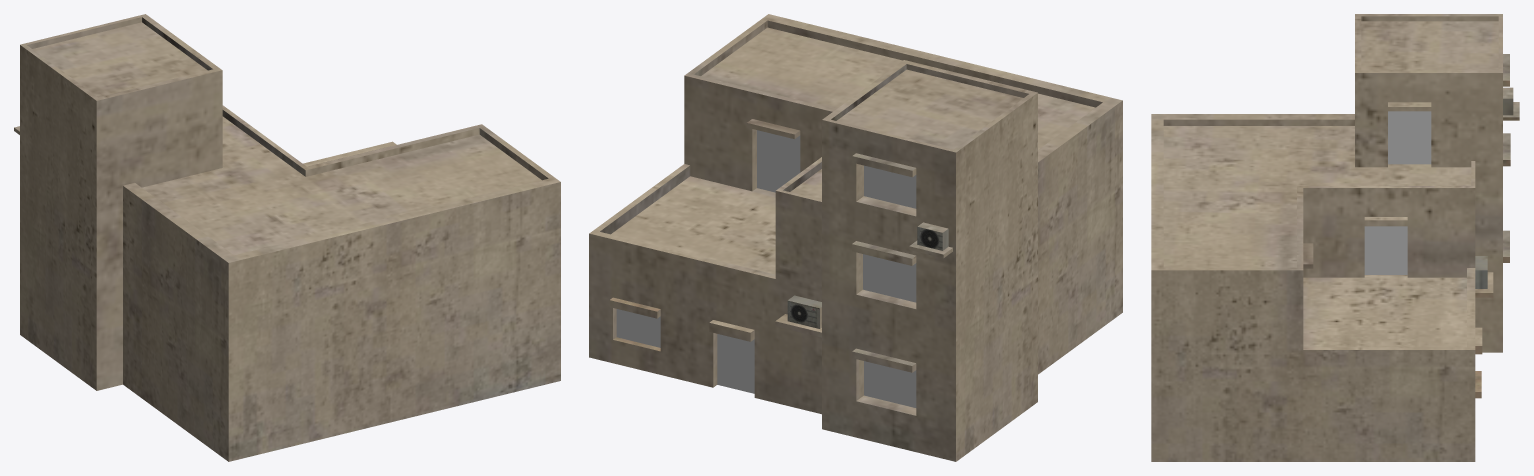
The picture shows the model from 3 angles, left to right: view 1: azimuth 30°, elevation 25°; view 2: azimuth 150°, elevation 25°; view 3: azimuth 270°, elevation 25°; orthographic projection. The views are drawn at different scales.
Visible parts, largest first — view 1: Model; view 2: Model; view 3: Model.
Boxes of the visible parts, x1,y1,x2,y2 form: Model: [14, 14, 560, 461]; Model: [589, 14, 1122, 461]; Model: [1151, 14, 1519, 461].
Bounding box in the file's own units: 1321 × 1022 × 1221.
